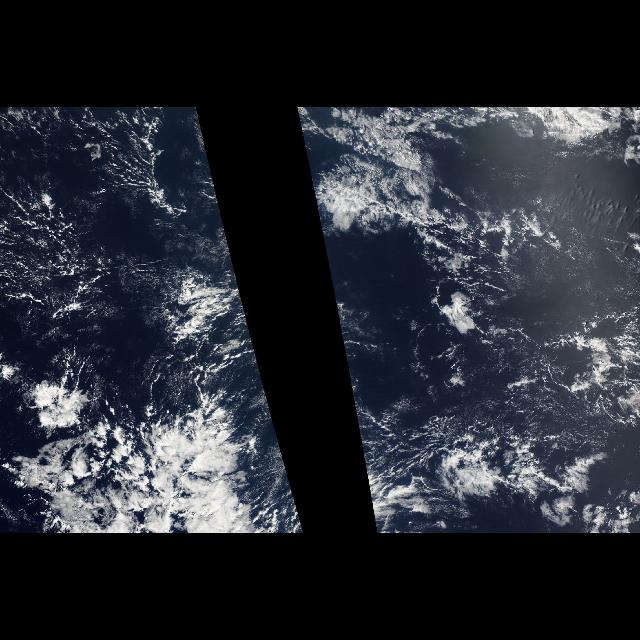Gravel: (375, 296, 639, 459)
